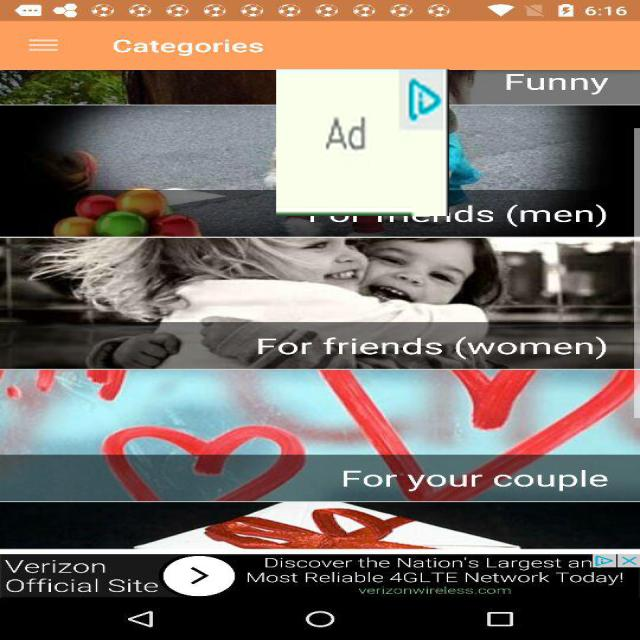sneaking: (276, 69, 449, 216)
